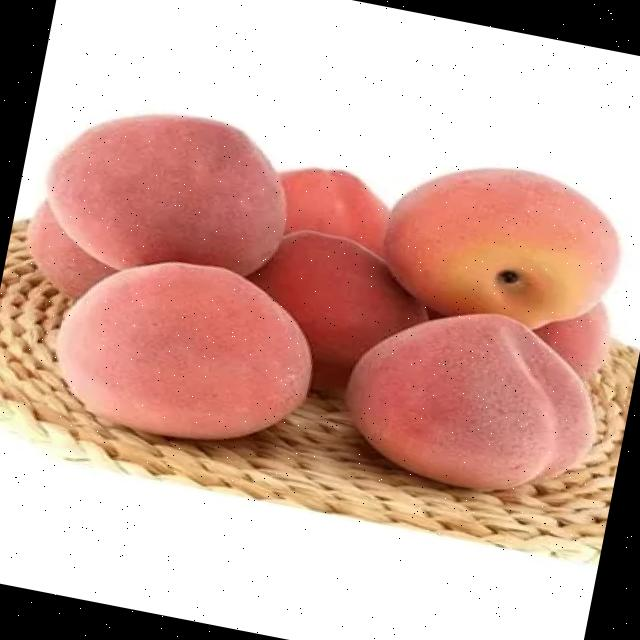peach: (55, 263, 310, 438), (345, 315, 593, 488), (46, 116, 284, 274), (386, 170, 616, 328)
